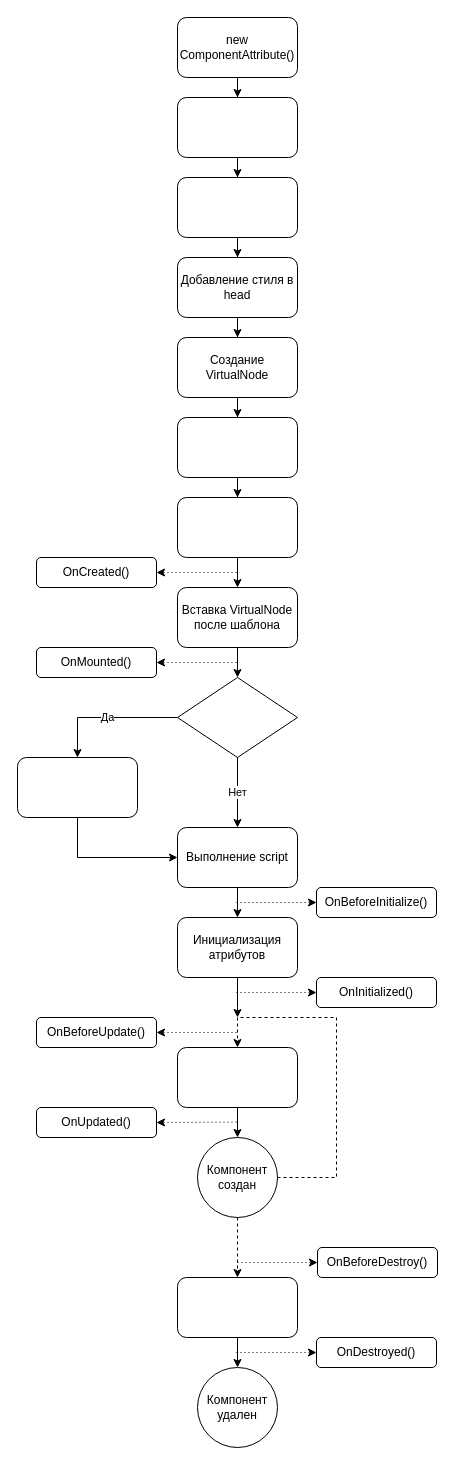
Image size: 455x1465. Some labels were removed from this diagram. Here are the shapes that lost their labels. From the top down, the box of each, then its label:
(176, 96, 298, 158): Создание шаблона
(176, 176, 298, 238): Асинхронная загрузка и обновление компонента
(176, 416, 298, 478): Замена слотов
(176, 496, 298, 558): Перенос атрибутов
(176, 676, 298, 758): Объявлен ли ForAttribute?
(16, 756, 138, 818): Клонирование VirtualNode
(176, 1046, 298, 1108): Обновление html
(176, 1276, 298, 1338): Удаление VirtualNode
